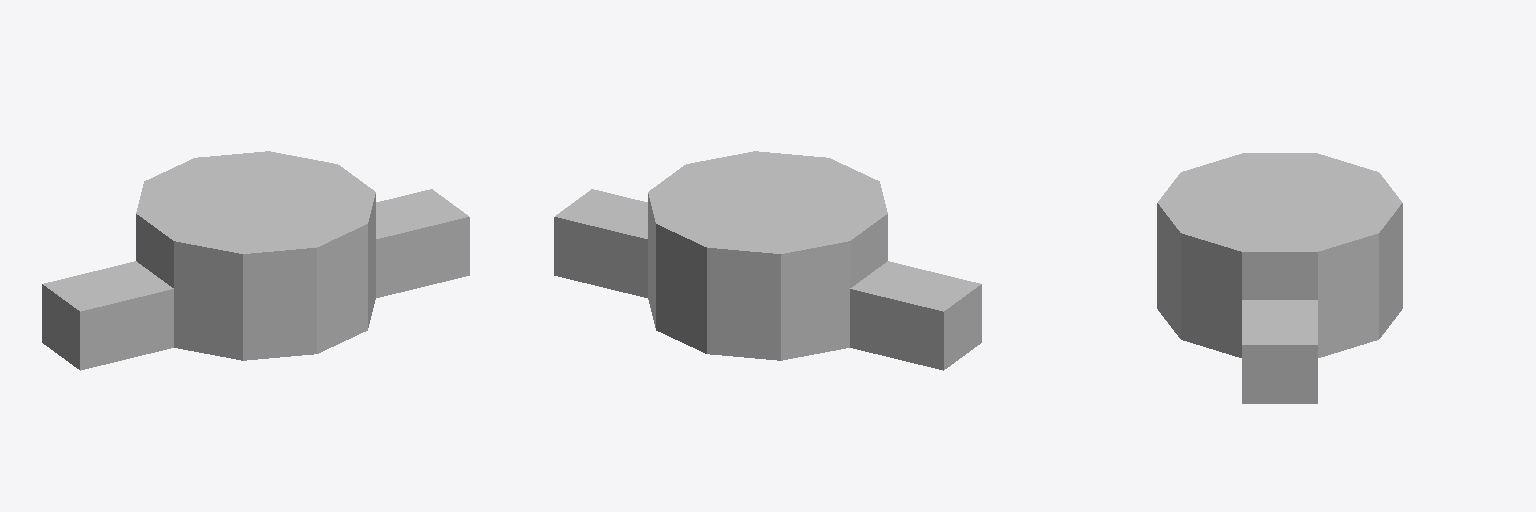
File: SalleTrompeuse.obj
3 views of the same model, side by side, from view 1: azimuth 30°, elevation 25°; view 2: azimuth 150°, elevation 25°; view 3: azimuth 270°, elevation 25° (orthographic).
Bounding box in the file's own units: 10 × 2.61 × 5.45.